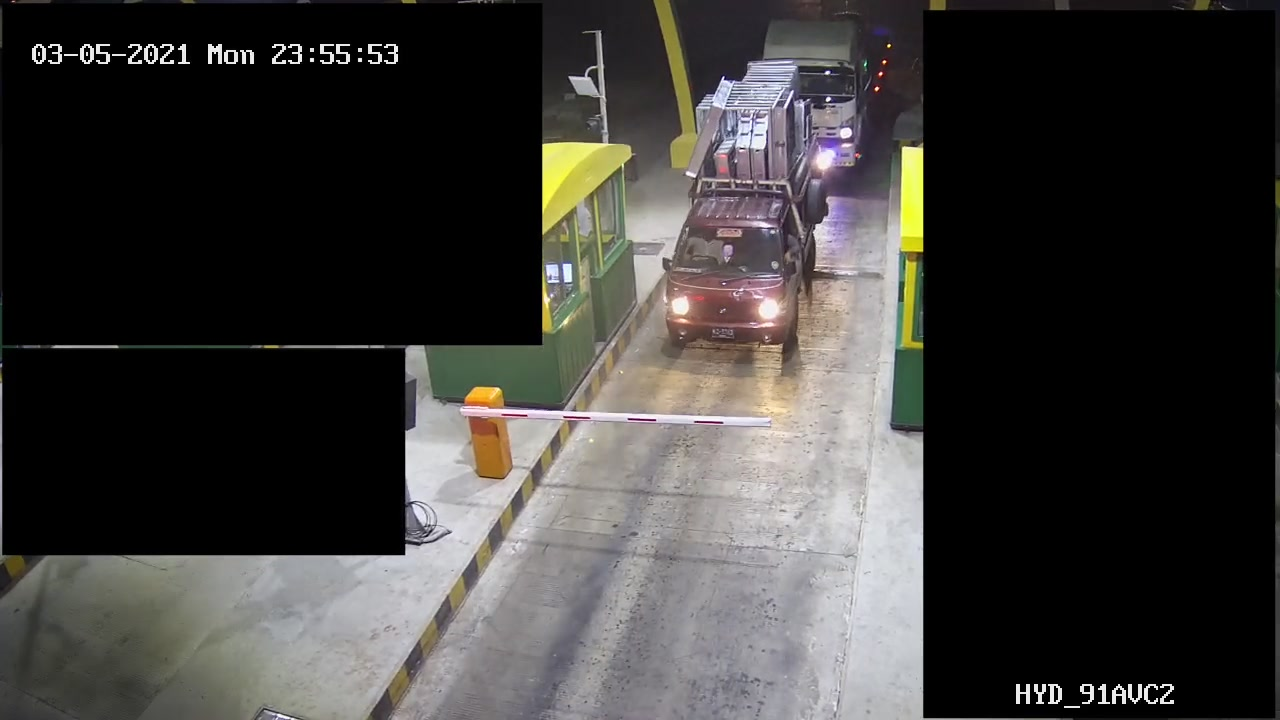F1: (658, 67, 820, 360)
